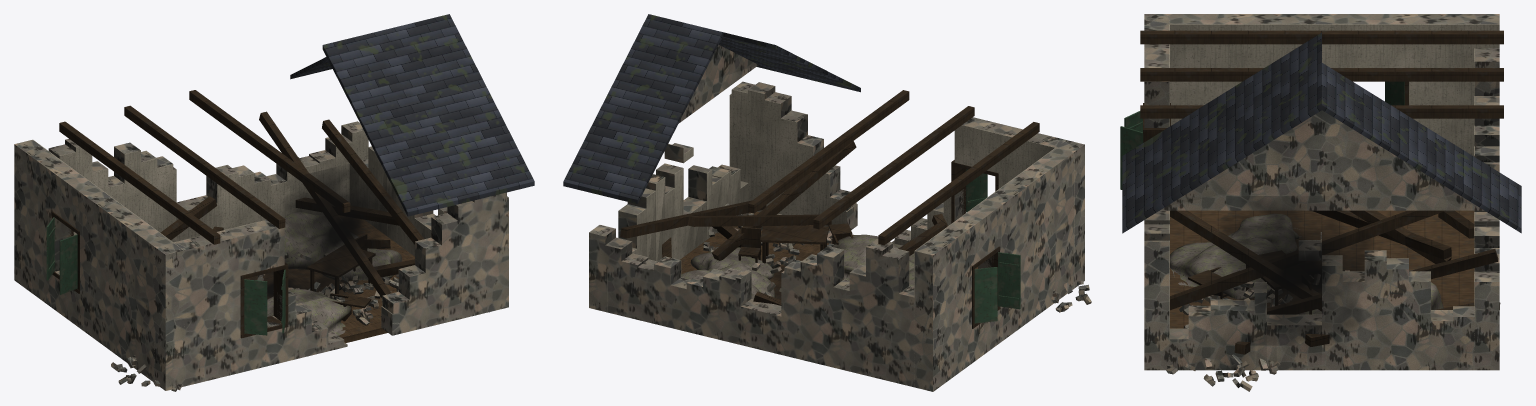
The model's file is ruined_house_b.glb.
3 views of the same model, side by side, from view 1: azimuth 30°, elevation 25°; view 2: azimuth 150°, elevation 25°; view 3: azimuth 270°, elevation 25° (orthographic). The views are drawn at different scales.
Visible parts, largest first — view 1: RuinedHouseB; view 2: RuinedHouseB; view 3: RuinedHouseB.
Part boxes in pixels (x1,y1,x2,y2): RuinedHouseB: (14, 14, 534, 391); RuinedHouseB: (563, 14, 1091, 391); RuinedHouseB: (1120, 14, 1521, 391).
Bounding box in the file's own units: 9.94 × 5.65 × 7.29.
8 materials, 8 textured.
